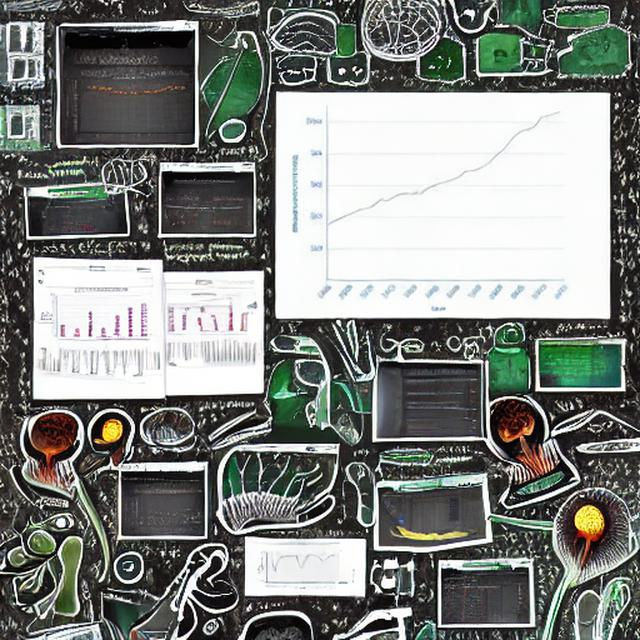Graph: (277, 103, 607, 315), (63, 67, 195, 145), (37, 288, 151, 346), (256, 541, 339, 591), (125, 488, 205, 536), (196, 332, 259, 368), (204, 206, 254, 234)
